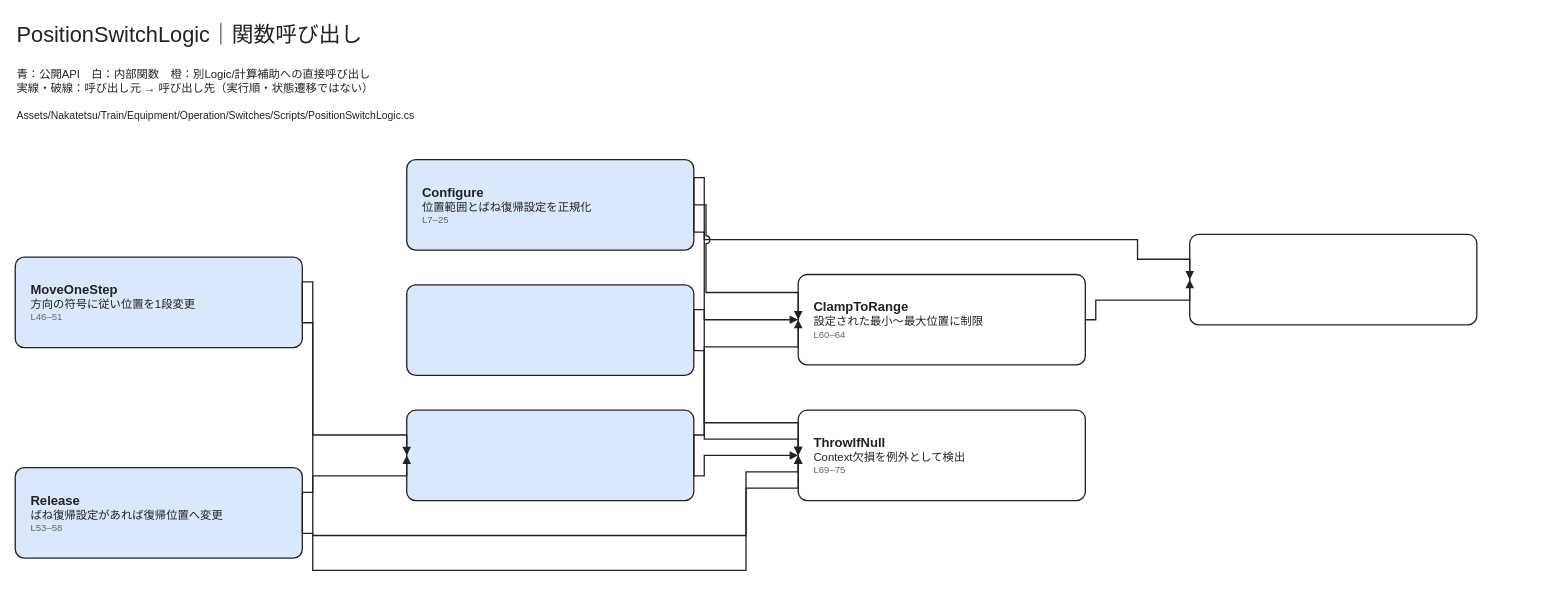
This 1553x592 diagram has some shape labels left out. Here are the shapes that lost their labels. From the top down, the centre of each, then its label:
At (1333,279): "Clamp 値を指定範囲へ制限 L66–67".
At (550,330): "Initialize 初期状態を設定して範囲を補正 L27–31".
At (550,455): "Set Position 範囲内に位置を設定し変更有無を返す L33–44".
